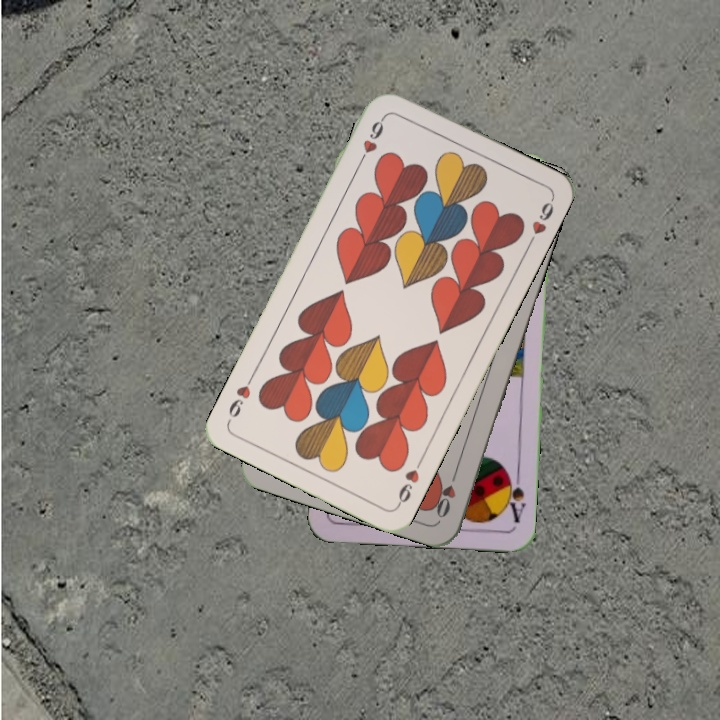H9: (355, 112, 389, 166), (393, 455, 426, 510)
HO: (430, 464, 461, 521)
SA: (501, 467, 529, 526)
